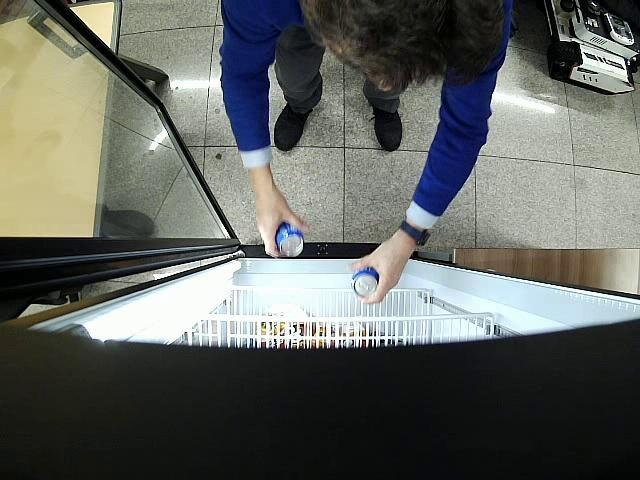13_pocariSweat: (276, 222, 303, 256), (351, 266, 378, 298)
